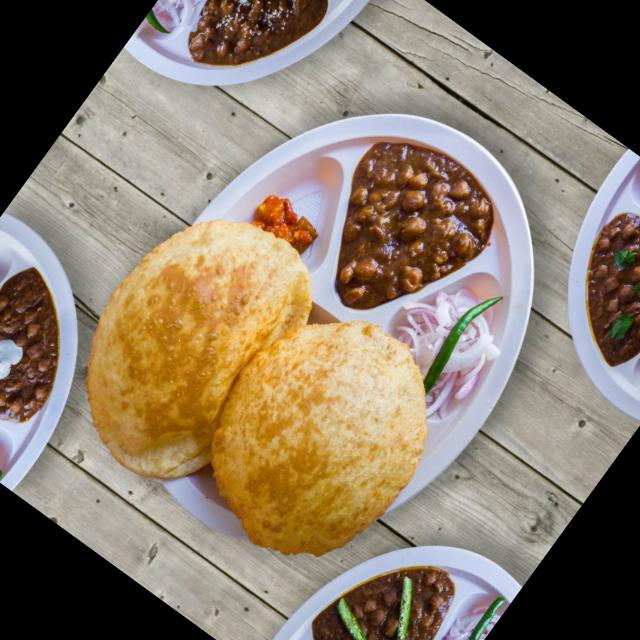Bhatura: (38, 177, 478, 603)
Chole: (286, 118, 516, 352), (0, 245, 107, 437), (297, 526, 474, 640), (167, 0, 350, 110), (541, 186, 640, 381)
